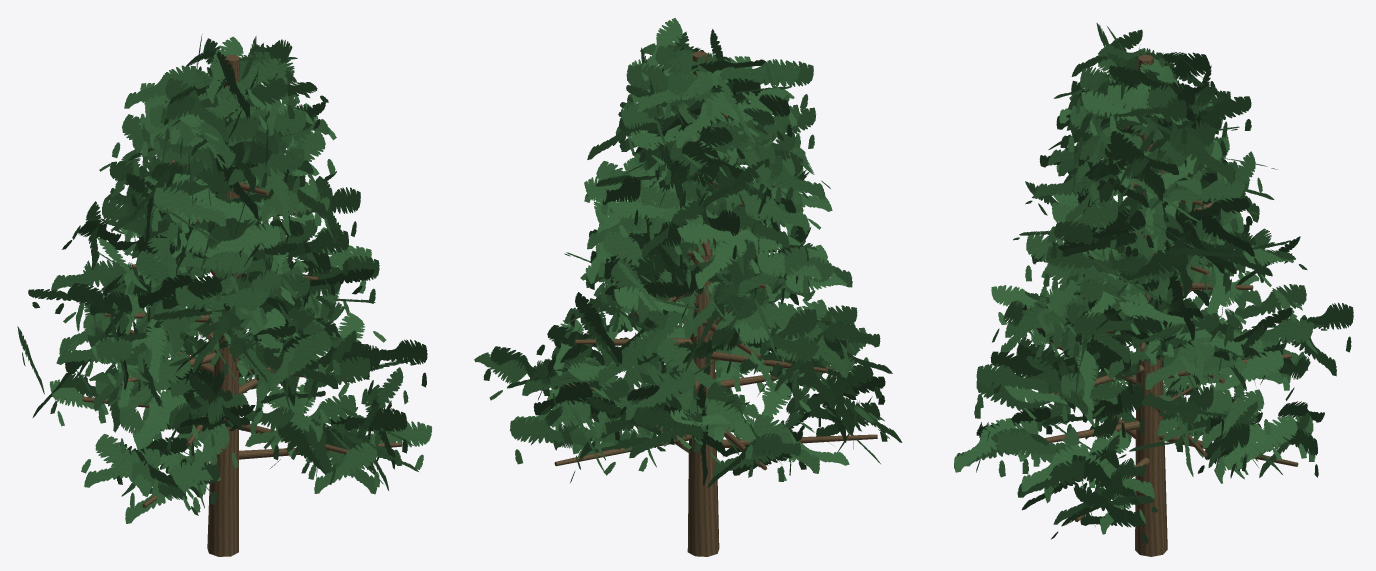
3 views of the same model, side by side, from view 1: azimuth 30°, elevation 25°; view 2: azimuth 150°, elevation 25°; view 3: azimuth 270°, elevation 25° (orthographic).
Visible parts, largest first — view 1: pine-needle, pine-bark; view 2: pine-needle, pine-bark; view 3: pine-needle, pine-bark.
Part boxes in pixels (<box>): pine-needle: <box>17,34,431,523</box>; pine-bark: <box>65,54,401,556</box>; pine-needle: <box>474,18,902,487</box>; pine-bark: <box>554,51,877,556</box>; pine-needle: <box>954,23,1353,543</box>; pine-bark: <box>1037,54,1298,556</box>.
Size of the model in its own units: 7.9 by 10.33 by 7.8.
2 materials, 2 textured.
